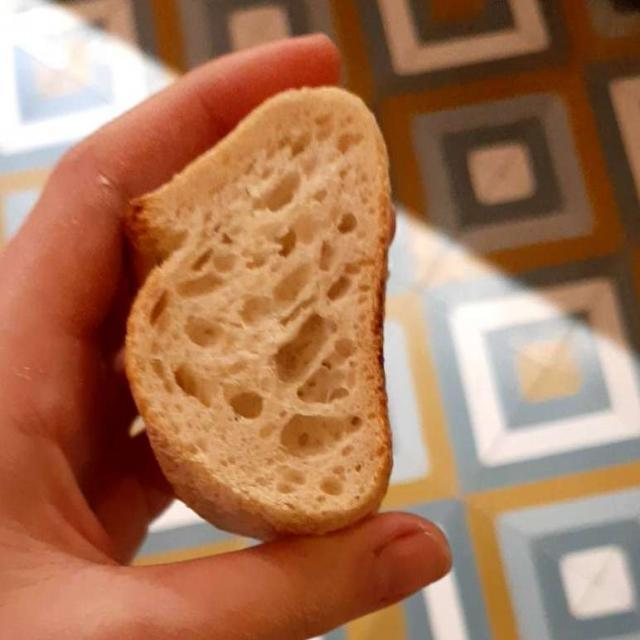bread: (126, 128, 387, 537)
